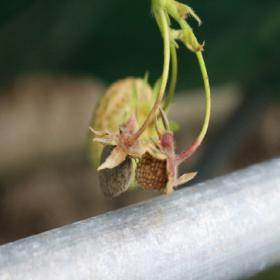Gray Mold: (87, 114, 145, 199)
